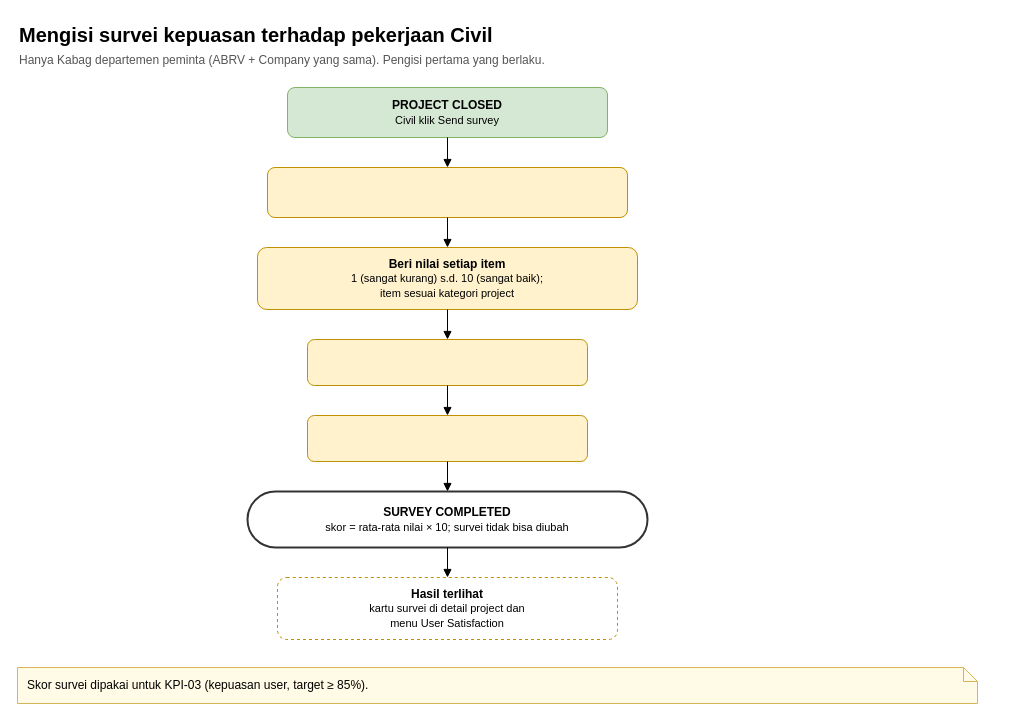
Some shapes in this 1035 by 721 pixel diagram are drawn without their labels. Each missing label, with the centre of its shape:
"My Tasks: Fill survey klik Fill → kartu User satisfaction survey" goes at (x=447, y=192).
"Note for Civil opsional" goes at (x=447, y=362).
"Submit survey konfirmasi" goes at (x=447, y=438).
